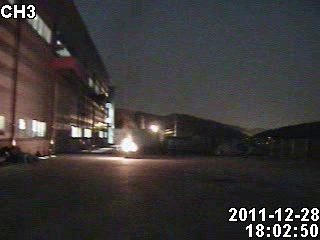fire: (119, 124, 143, 154)
